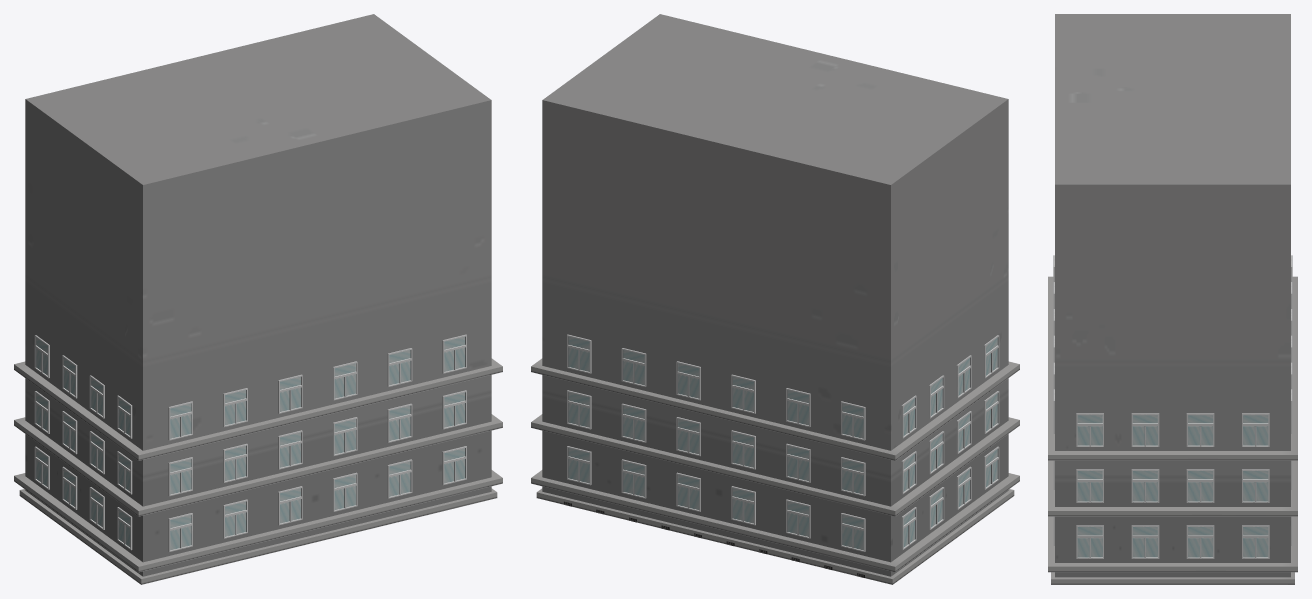
File: School.fbx
3 views of the same model, side by side, from view 1: azimuth 30°, elevation 25°; view 2: azimuth 150°, elevation 25°; view 3: azimuth 270°, elevation 25° (orthographic).
Parts seen in each view (by area): view 1: 학교, 하단.003, 하단.001, 하단.002, Cube.014, Cube.005, Cube.016, 하단, Cube.015, Cube.013, Cube.004; view 2: 학교, 하단.003, 하단.001, 하단.002, Cube.014, Cube.005, Cube.016, 하단, Cube.015, Cube.013, Cube.004; view 3: 학교, 하단.003, Cube.004, Cube.013, Cube.015, 하단.001, 하단.002, 하단, Cube.016.
Part boxes in pixels (x1,y1,x2,y2): 학교: (25,14,491,576); 하단.003: (14,358,502,460); 하단.001: (14,470,502,572); 하단.002: (14,414,502,516); Cube.014: (168,390,466,496); Cube.005: (168,446,466,551); Cube.016: (168,334,466,440); 하단: (19,488,497,584); Cube.015: (34,335,132,438); Cube.013: (34,391,132,494); Cube.004: (34,446,132,550); 학교: (542,14,1008,576); 하단.003: (531,358,1019,460); 하단.001: (531,470,1019,572); 하단.002: (531,414,1019,516); Cube.014: (567,390,865,496); Cube.005: (567,446,865,551); Cube.016: (567,334,865,440); 하단: (536,488,1014,584); Cube.015: (901,335,999,438); Cube.013: (901,391,999,494); Cube.004: (901,446,999,550); 학교: (1055,14,1290,577); 하단.003: (1048,276,1297,460); Cube.004: (1076,525,1269,558); Cube.013: (1076,469,1269,502); Cube.015: (1076,413,1269,446); 하단.001: (1048,516,1297,572); 하단.002: (1048,460,1297,516); 하단: (1051,572,1294,584); Cube.016: (1053,255,1292,433).
Size of the model in its own units: 2736 by 2852 by 1620.
Materials: 1 (1 with a texture image).
